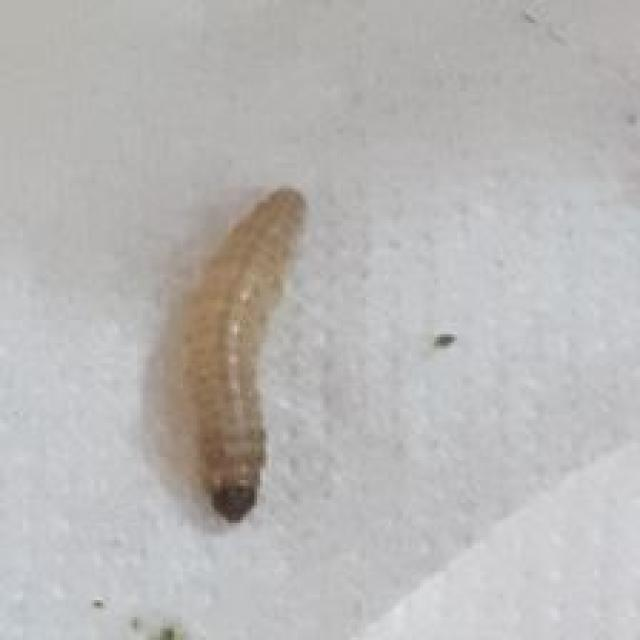white mucus: (161, 162, 361, 557)
